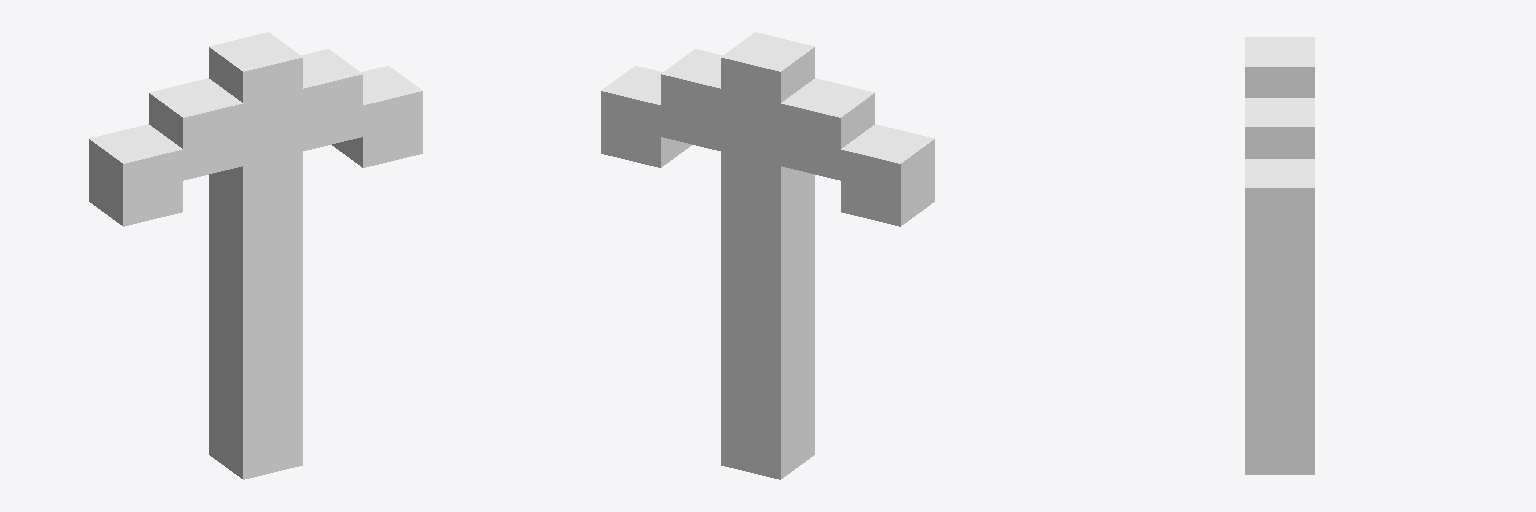
The model's file is StonePickAxe.obj.
The picture shows the model from 3 angles: view 1: azimuth 30°, elevation 25°; view 2: azimuth 150°, elevation 25°; view 3: azimuth 270°, elevation 25°; orthographic projection.
Visible parts, largest first — view 1: object 1; view 2: object 1; view 3: object 1.
Part boxes in pixels (bbox=[...]): object 1: bbox=[89, 32, 422, 479]; object 1: bbox=[601, 32, 934, 479]; object 1: bbox=[1245, 37, 1314, 474].
Bounding box in the file's own units: 1 × 1.3 × 0.2.